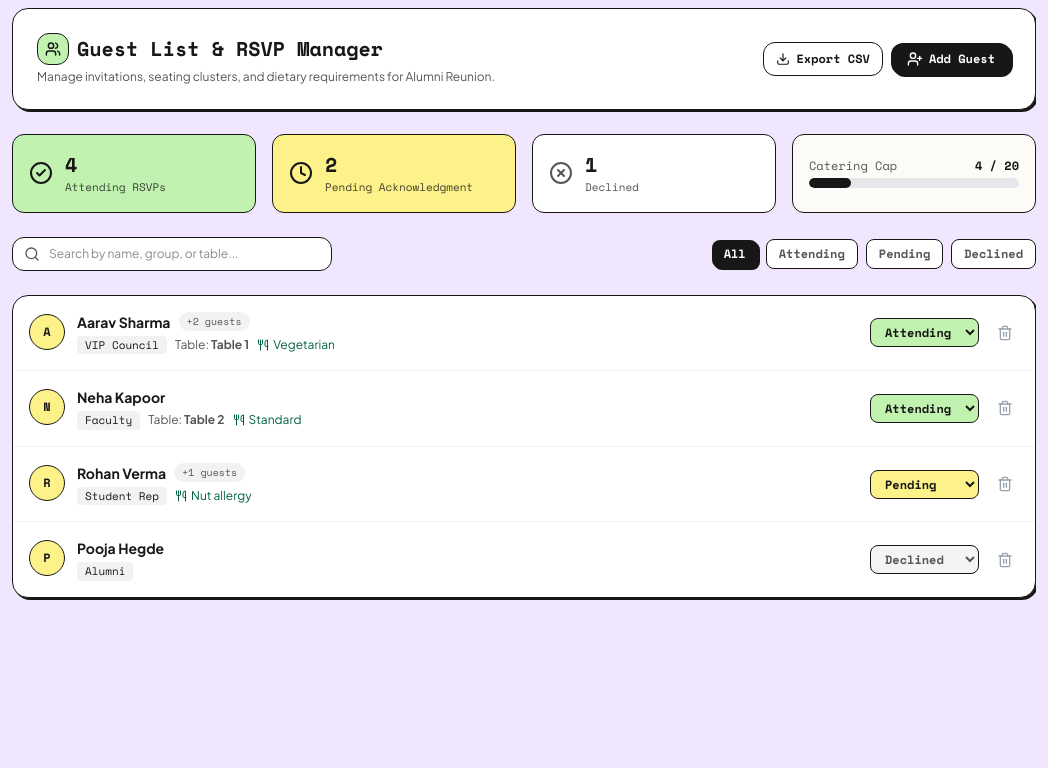
Test: Guest RSVP Counts & Management › filters guest list by RSVP status buttons
Filter by 'attending'
Click the button "attending": point(812, 254) [766,238,858,268]
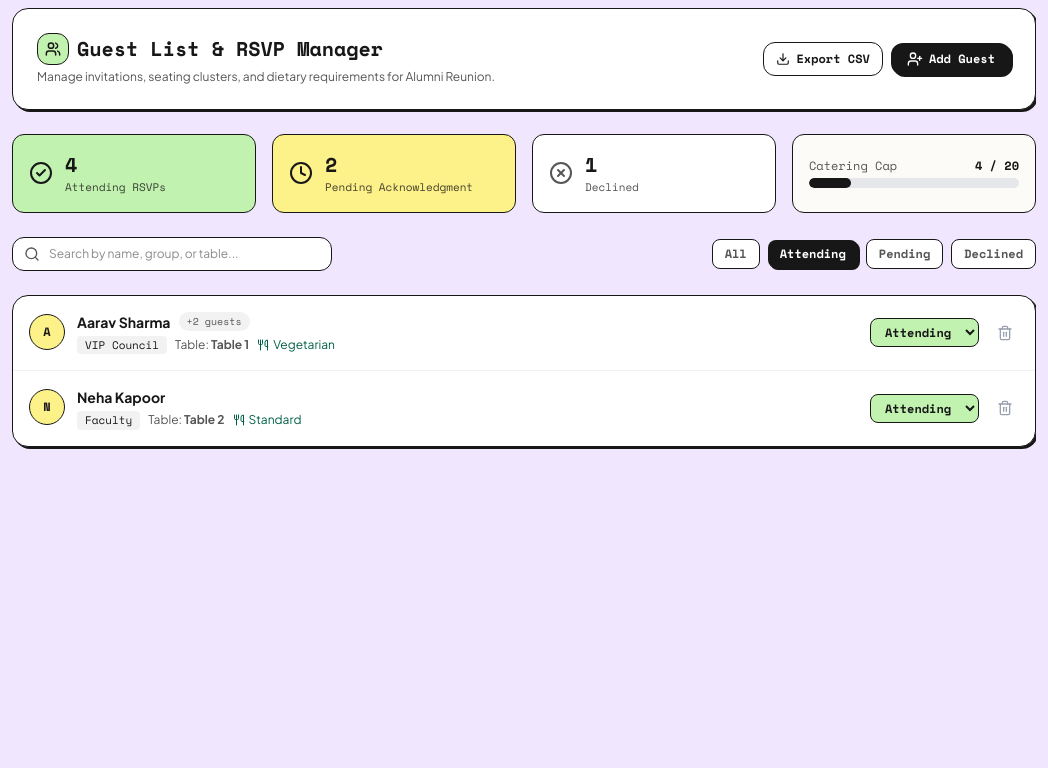
Expected: the text "Aarav Sharma" is shown, [77,312,170,332]
Now the text "Rohan Verma" is gone
Now the text "Pooja Hegde" is gone
Filter by 'declined'
Click the button "declined": point(994, 254) [951,238,1036,268]
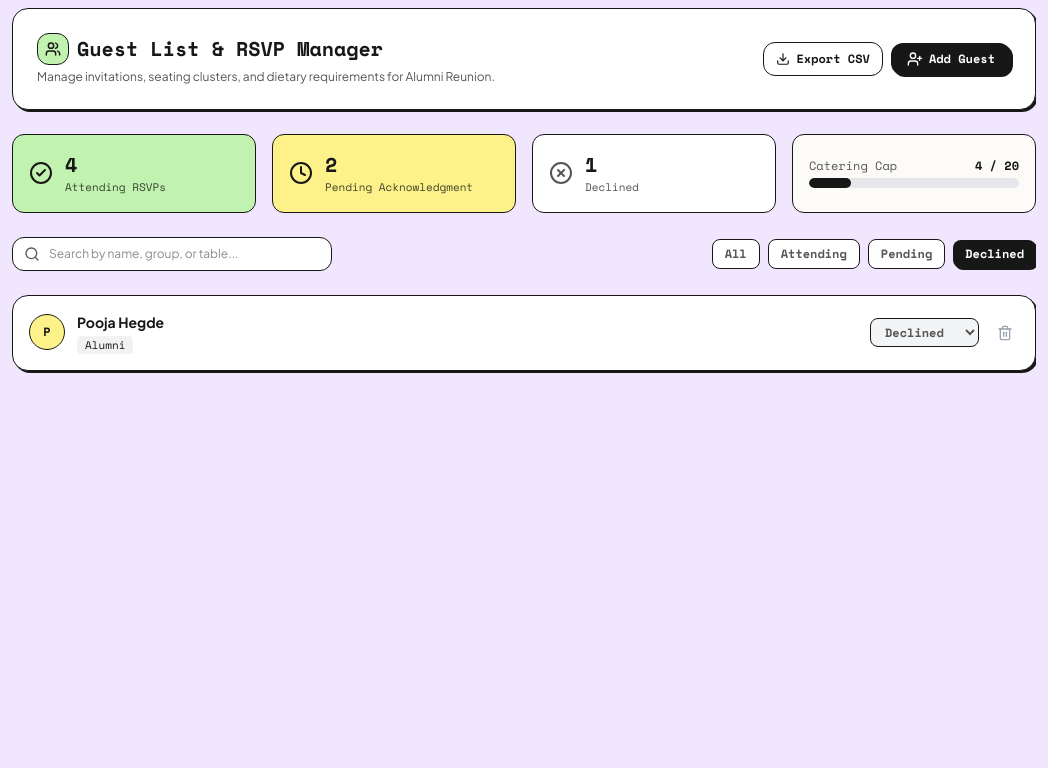
Now the text "Aarav Sharma" is gone
Now the text "Pooja Hegde" is shown, box [77,312,164,332]
